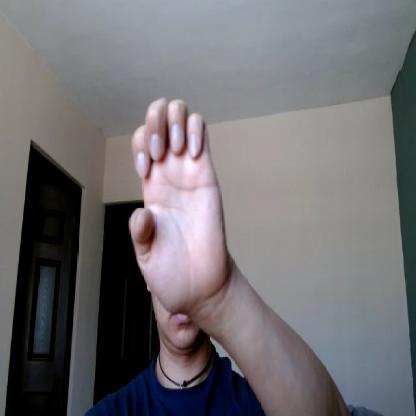E: (128, 97, 226, 311)
